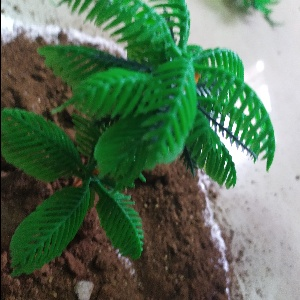plant: (1, 2, 279, 269)
